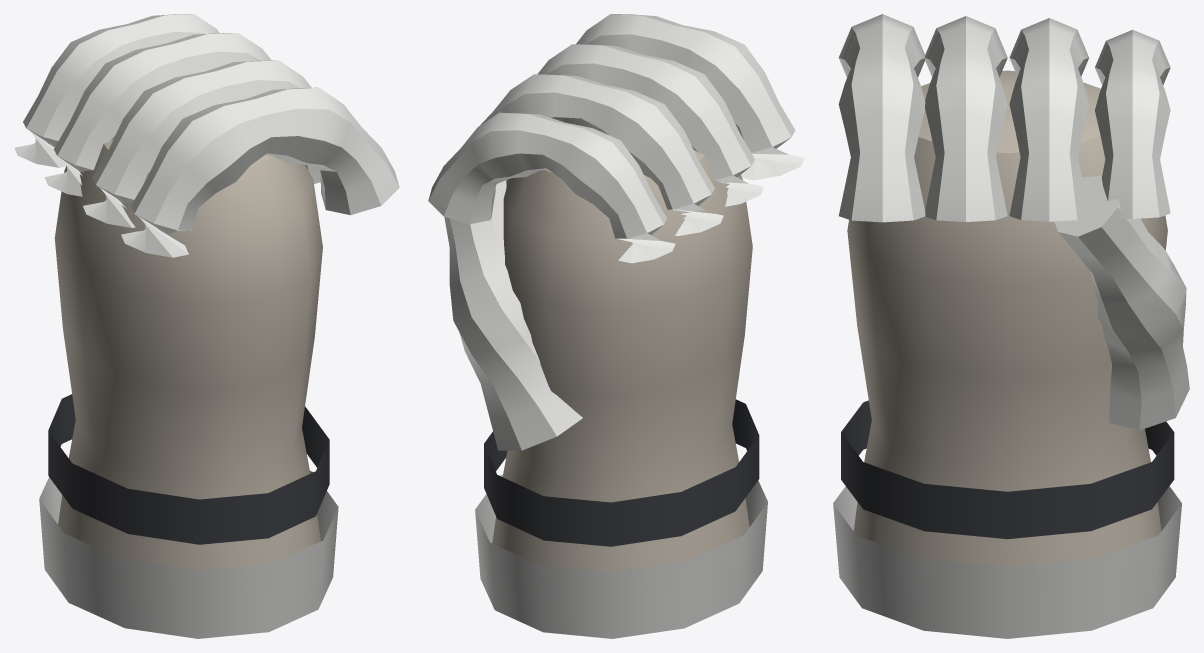
Rendered from SM_C26_Glove_R.fbx.
3 views of the same model, side by side, from view 1: azimuth 30°, elevation 25°; view 2: azimuth 150°, elevation 25°; view 3: azimuth 270°, elevation 25° (orthographic). The views are drawn at different scales.
Parts seen in each view (by area): view 1: SM_C26_Glove_R; view 2: SM_C26_Glove_R; view 3: SM_C26_Glove_R.
Part boxes in pixels (<box>): SM_C26_Glove_R: <box>14,14,399,638</box>; SM_C26_Glove_R: <box>428,14,804,638</box>; SM_C26_Glove_R: <box>833,14,1189,638</box>.
Size of the model in its own units: 10.04 by 10.91 by 19.03.
